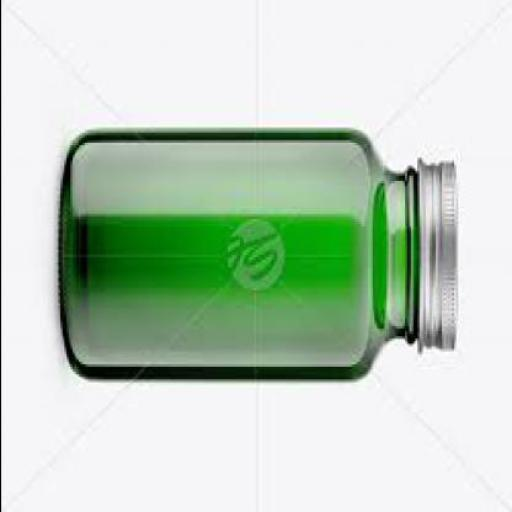glass: (59, 134, 419, 384)
metal: (422, 163, 459, 354)
